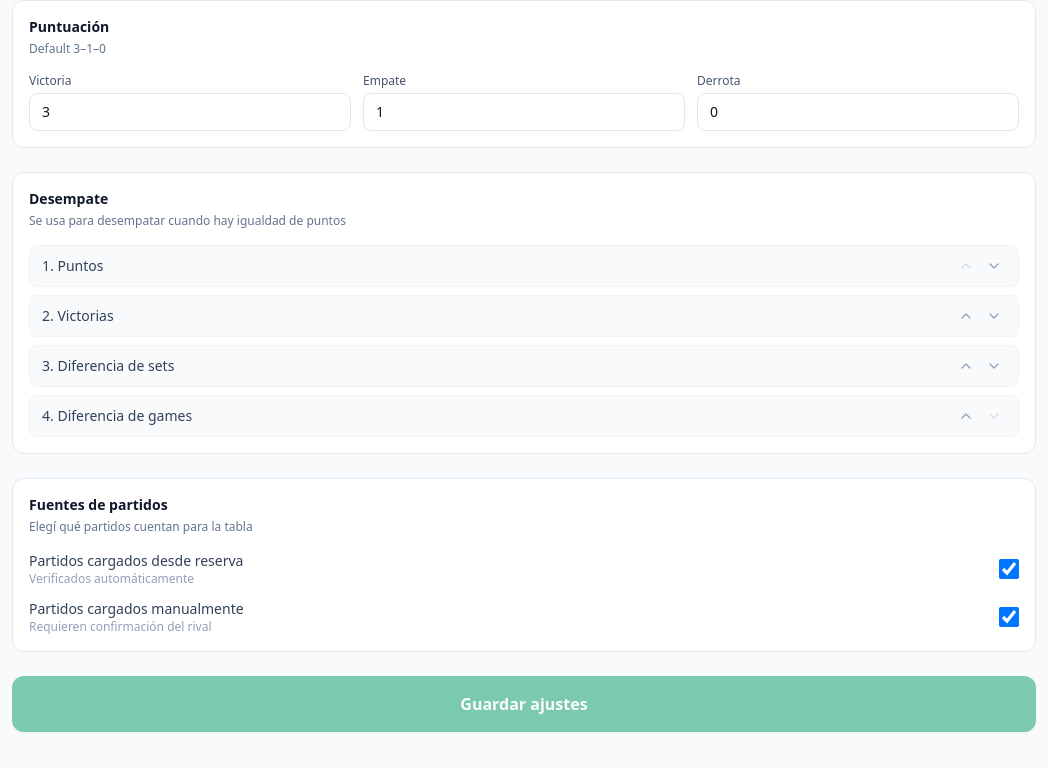
Test: LeagueSettingsPanel › moves tie-breaker down when clicking down arrow
# Move "Puntos" (index 0) down
Click the button named "Bajar Puntos". click: (994, 266)
box: left=982, top=254, right=1006, bottom=278
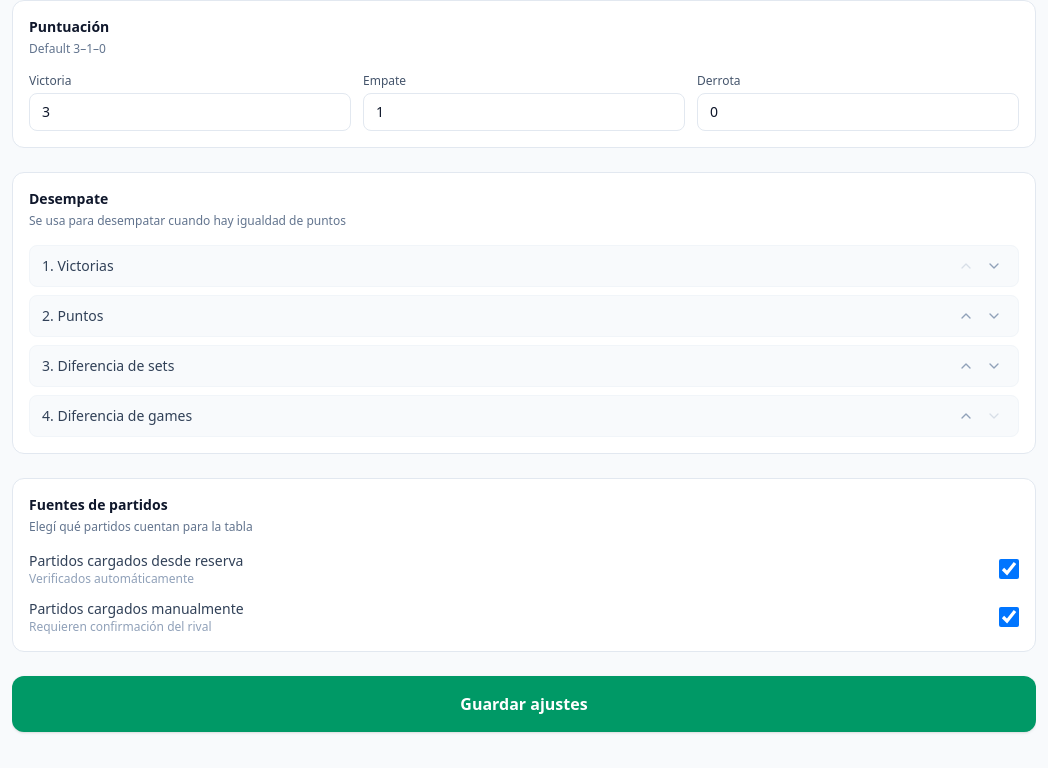
Now the text "1. Victorias" is shown, box left=42, top=256, right=114, bottom=276
Now the text "2. Puntos" is shown, box left=42, top=306, right=103, bottom=326
